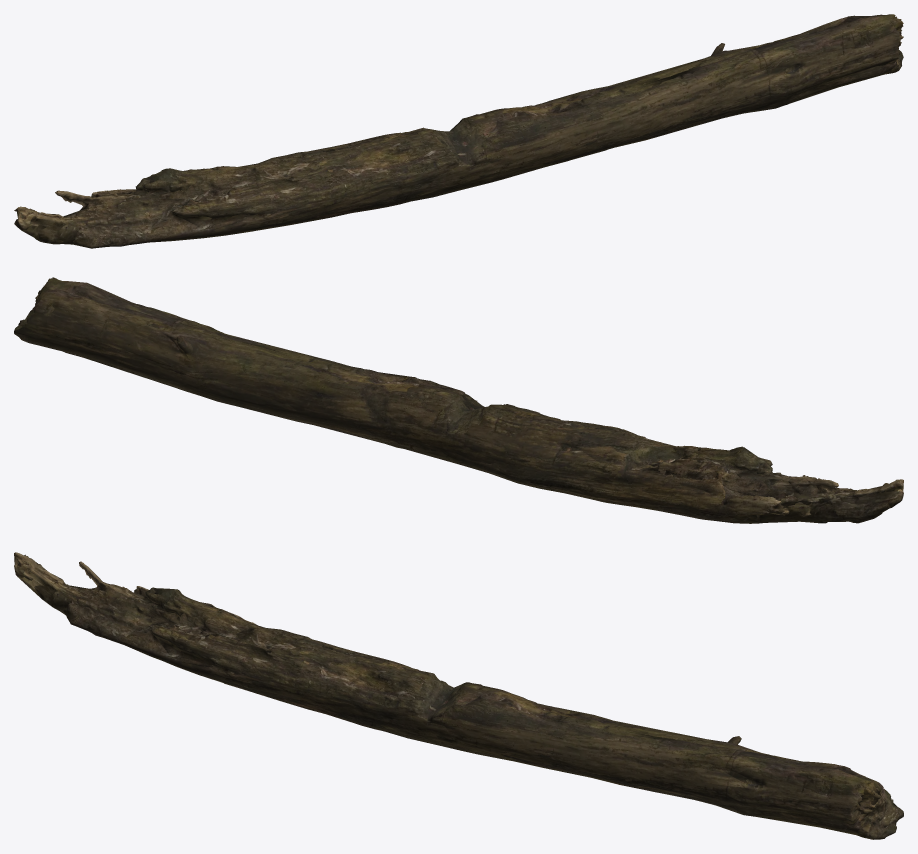
The model's file is dead_tree_trunk.glb.
3 renders of one model, top to bottom at view 1: azimuth 30°, elevation 25°; view 2: azimuth 150°, elevation 25°; view 3: azimuth 330°, elevation 25°, orthographic.
Visible parts, largest first — view 1: dead_tree_trunk, dead_tree_trunk_lo; view 2: dead_tree_trunk, dead_tree_trunk_lo; view 3: dead_tree_trunk, dead_tree_trunk_lo.
Part boxes in pixels (x1=…): dead_tree_trunk: x1=14, y1=14, x2=903, y2=248; dead_tree_trunk_lo: x1=17, y1=15, x2=901, y2=245; dead_tree_trunk: x1=14, y1=277, x2=903, y2=523; dead_tree_trunk_lo: x1=17, y1=278, x2=903, y2=522; dead_tree_trunk: x1=14, y1=552, x2=903, y2=839; dead_tree_trunk_lo: x1=14, y1=553, x2=900, y2=837.
Bounding box in the file's own units: 3.05 × 0.2899 × 0.2775.
Materials: 1 (1 with a texture image).
